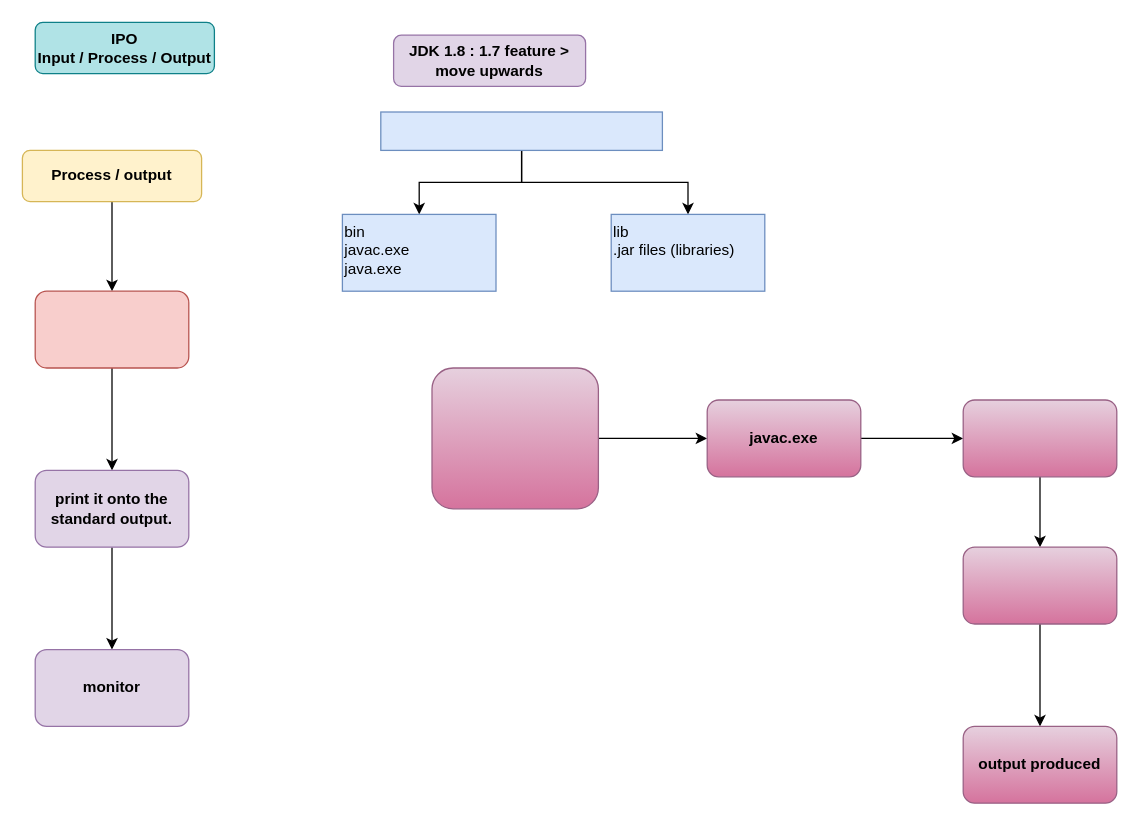
This 1139x826 diagram has some shape labels left out. Here are the shapes that lost their labels. From the top down, the box of each, then its label:
(380, 111, 662, 150): C:\Program Files\Java\jdk1.8.0_202
(34, 290, 189, 368): strore "welcome" in memory
(431, 367, 598, 509): source code (.java) Welcome.java
(962, 399, 1117, 477): Welcome.class (byte code)
(962, 546, 1117, 624): java Welcome
